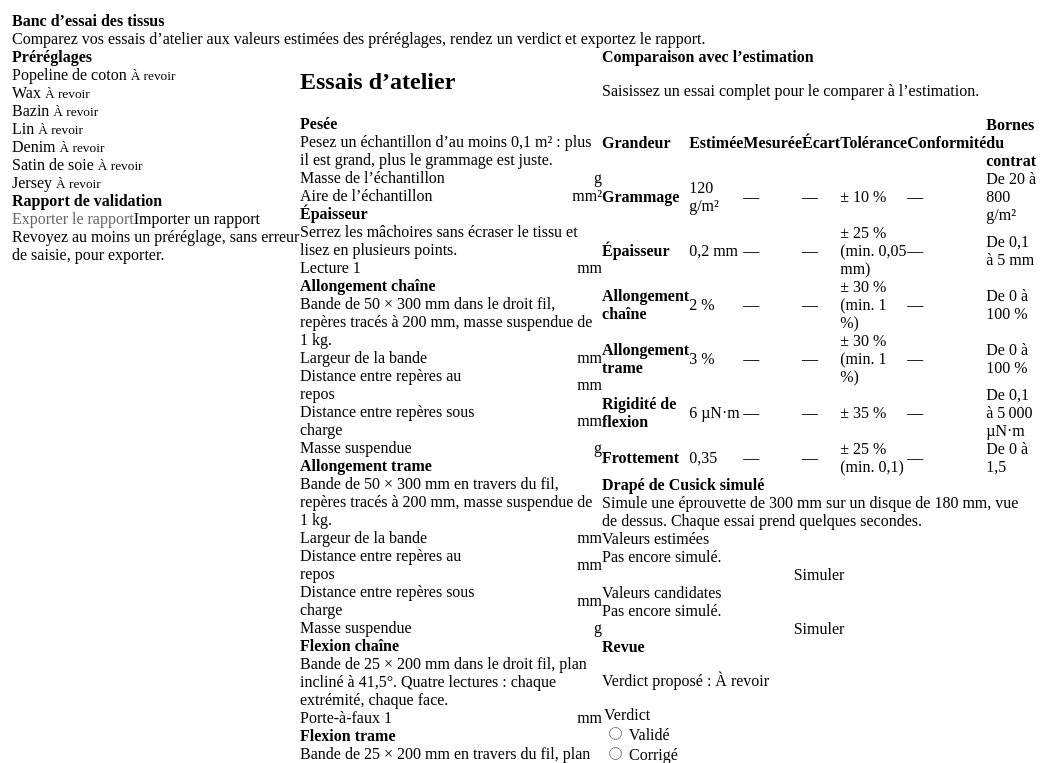
Test: banc d’essai des tissus : au repos › un autre préréglage montre sa propre estimation
This screenshot has width=1048, height=763.
Click the button "Wax À revoir". click: point(67, 94)
box: [12, 84, 300, 102]
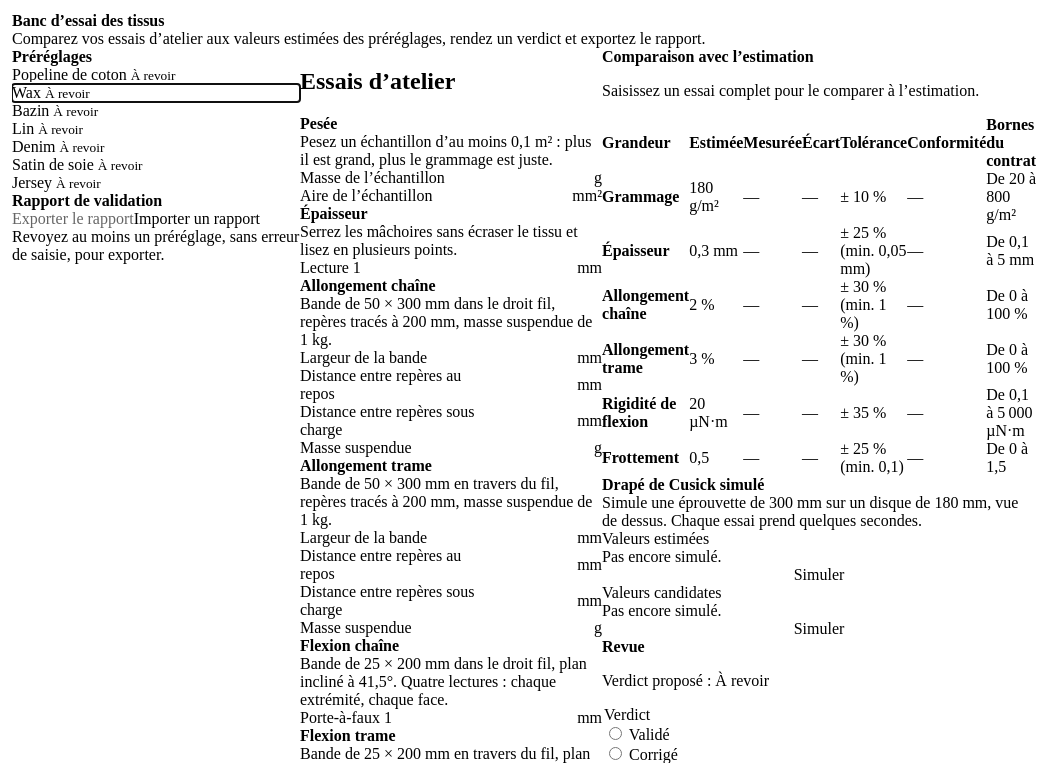
expect the row "Grammage 180 g/m² — — ± 10 % — De 20 à 800 g/m²" is shown: met, box [602, 170, 1036, 224]
